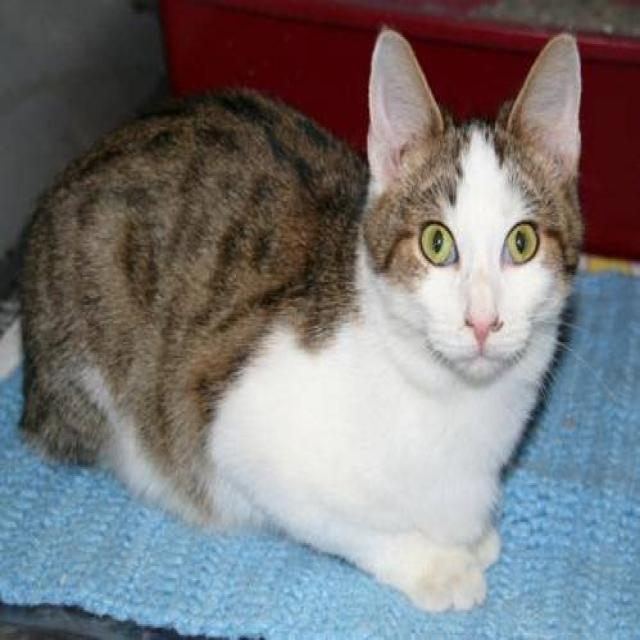cat: (14, 23, 586, 613)
